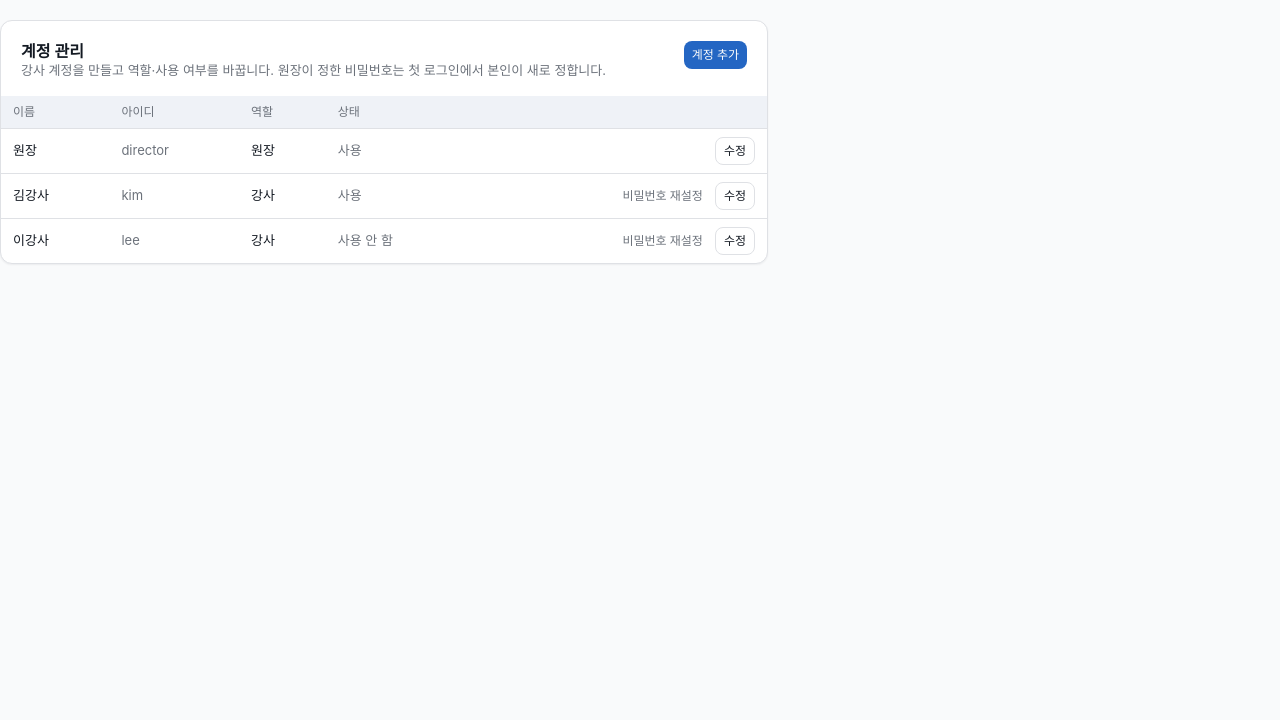
Scenario: 마지막 원장을 바꾸지 못하면 서버 메시지를 보여 준다
This screenshot has width=1280, height=720.
Expected: the text "김강사" is shown, [1,173,109,218]
Click the button with aria-label "원장 수정" at [735, 151], box [715,137,755,165]
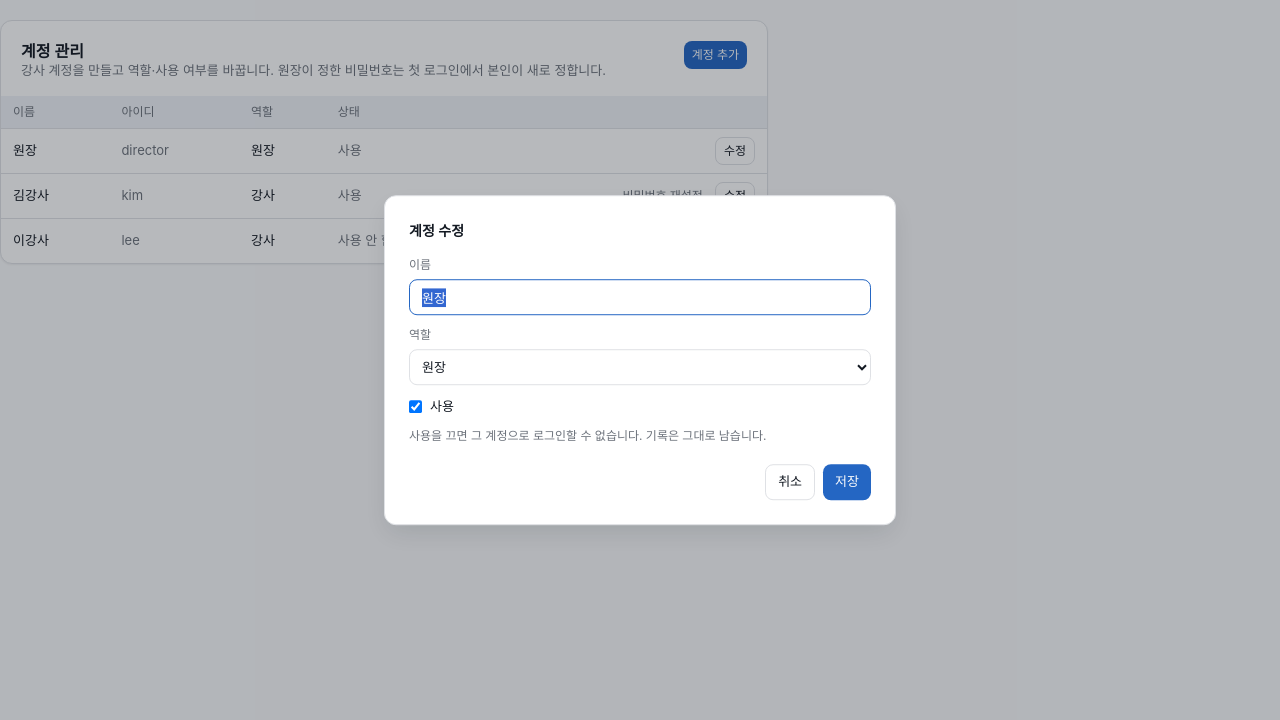
Select "강사" in the dropdown labelled "역할" at [640, 367], box [409,349,871,385]
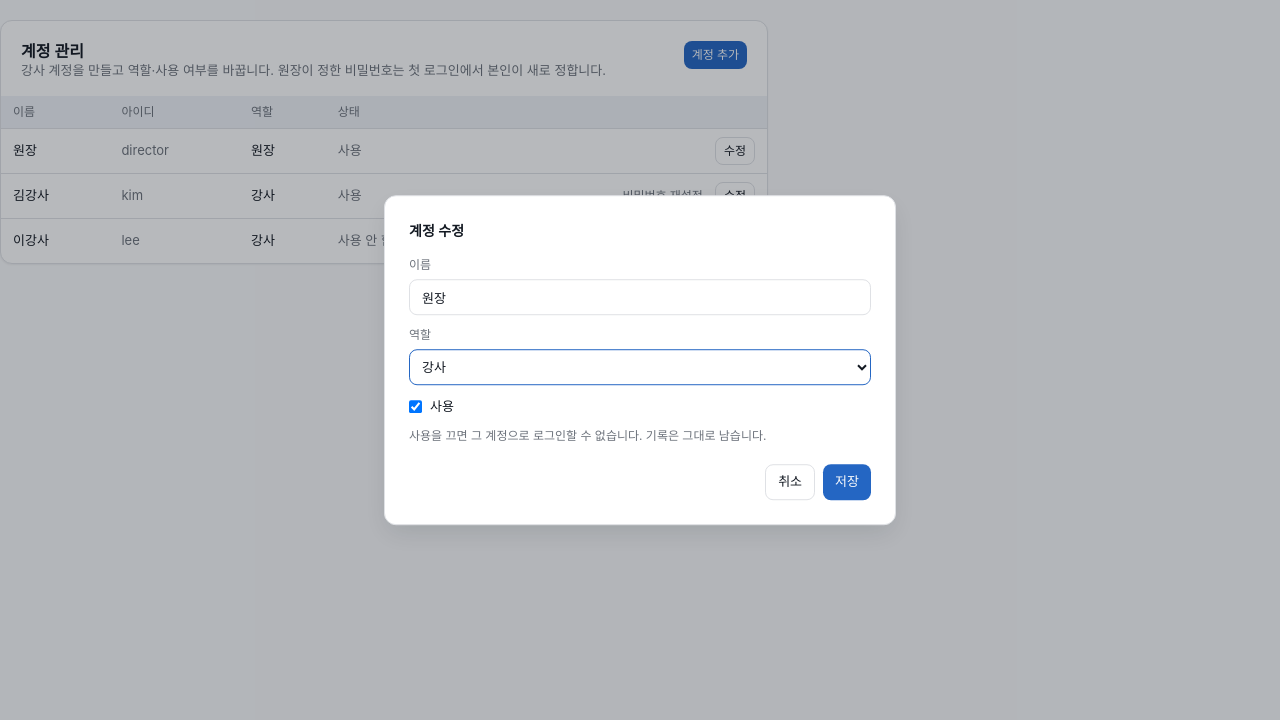
Click the button "저장" at [847, 482], box [823,464,871,500]
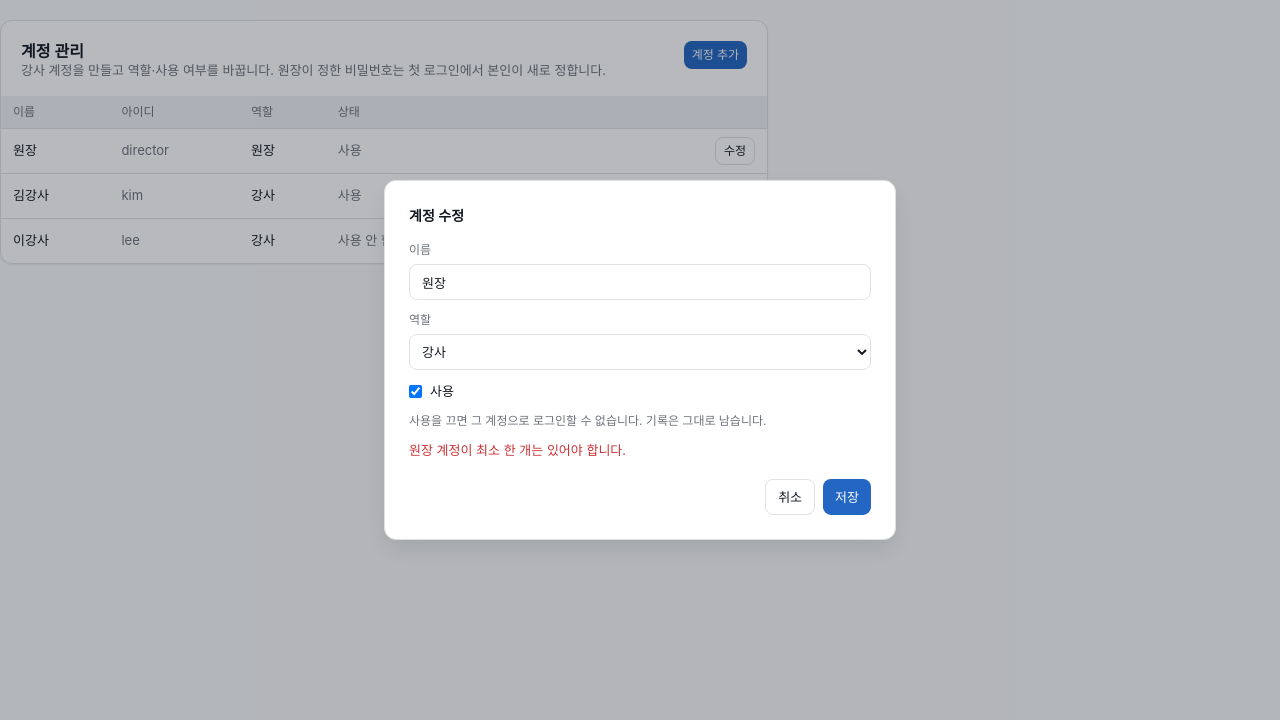
Now the message shows "최소 한 개", box [409,442,626,458]
